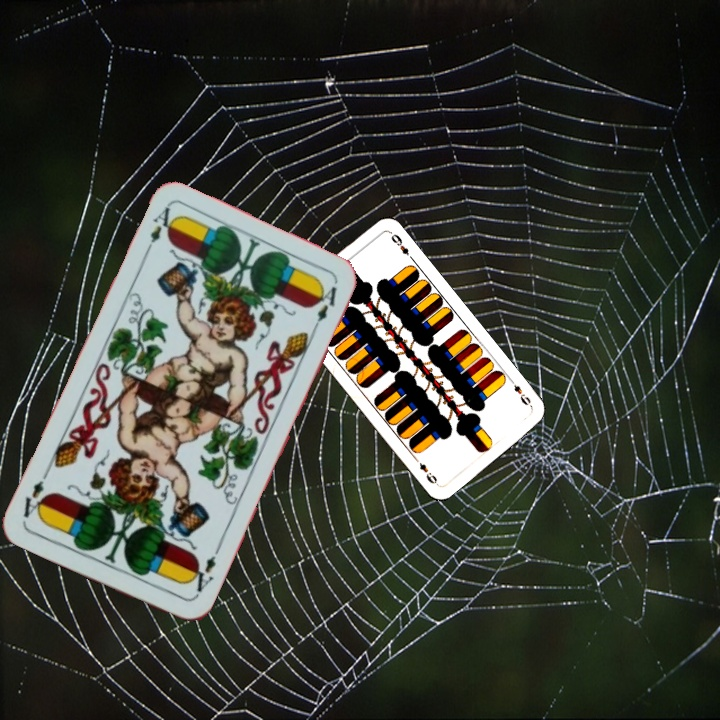E9: (506, 375, 535, 410)
EA: (184, 544, 223, 601), (140, 203, 179, 258)
